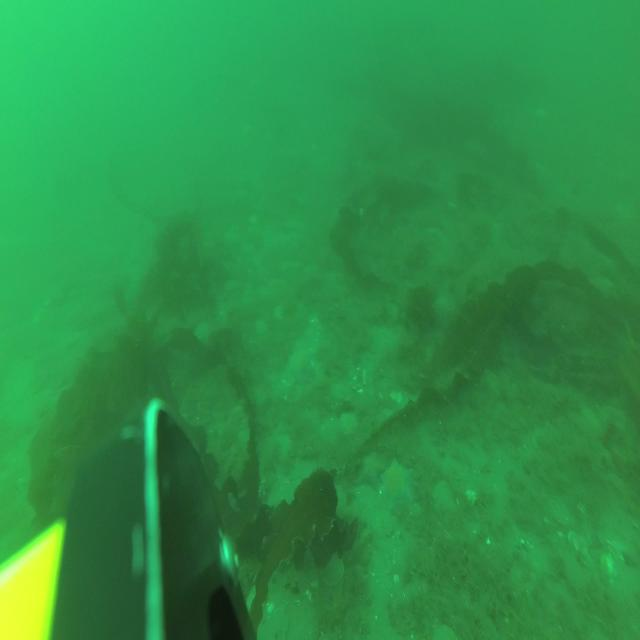scallop: (432, 476, 458, 518), (317, 552, 346, 589), (338, 405, 359, 439), (192, 318, 212, 344), (222, 278, 240, 292), (254, 318, 266, 337), (272, 303, 284, 322)
starfish: (379, 459, 415, 509), (284, 343, 314, 386), (358, 446, 384, 494)
